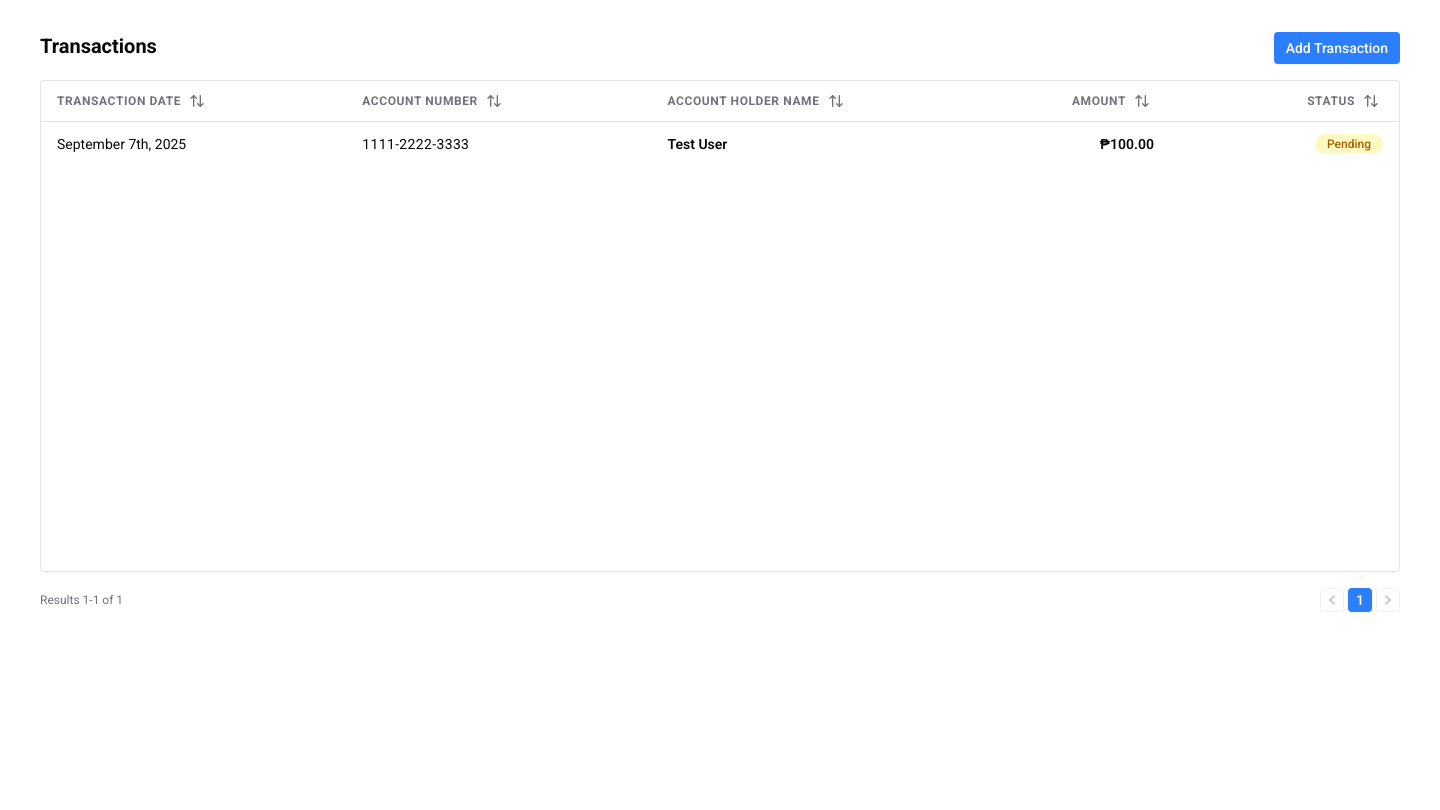
Transaction form tests › should throw an error when account number is empty
What coordinates should you click on to do the following:
click the button "Add Transaction"
I would click on:
 (1337, 48)
Its box is [1274,32,1400,64].
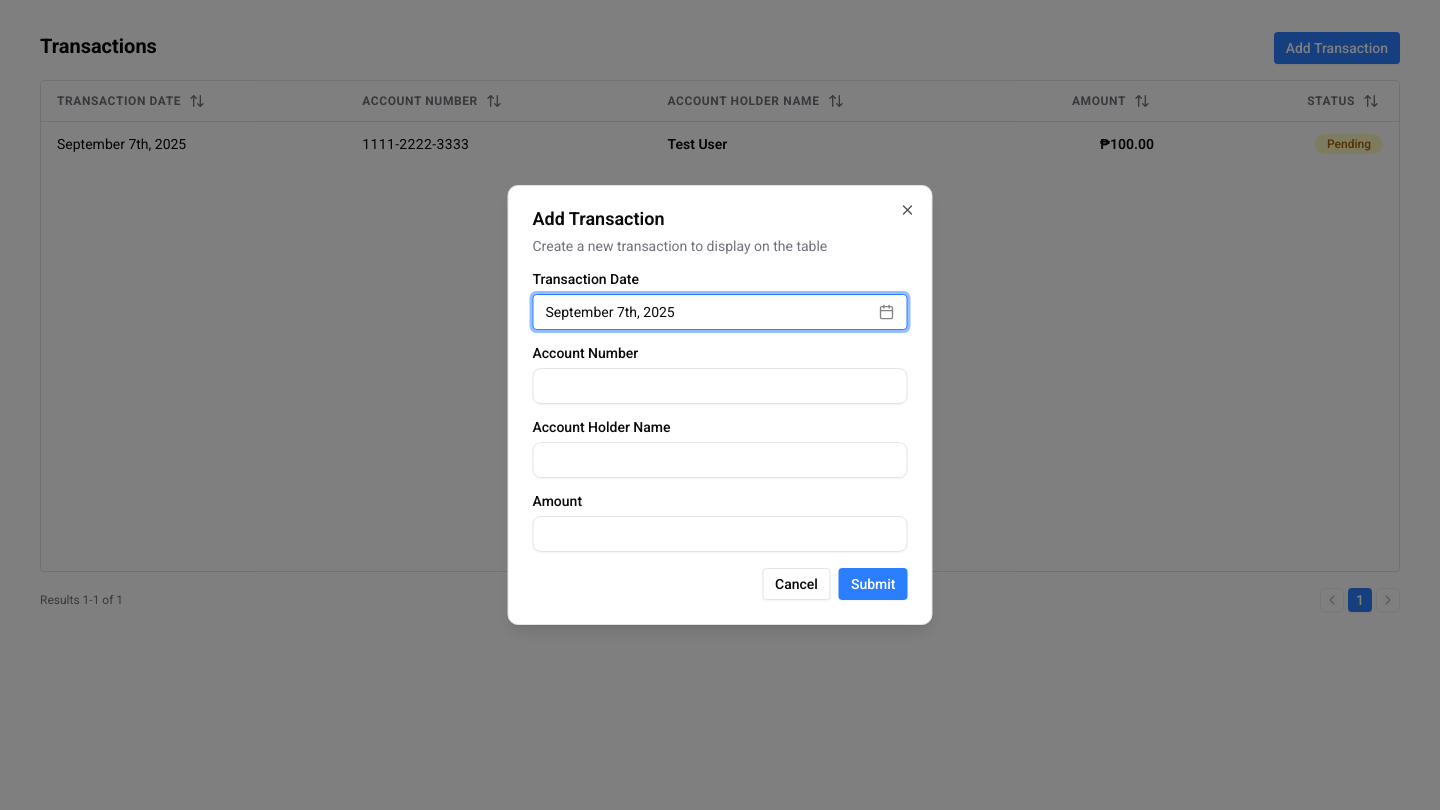
What coordinates should you click on to do the following:
click the button "Submit"
I would click on:
 (873, 584)
Its box is [839,568,908,600].
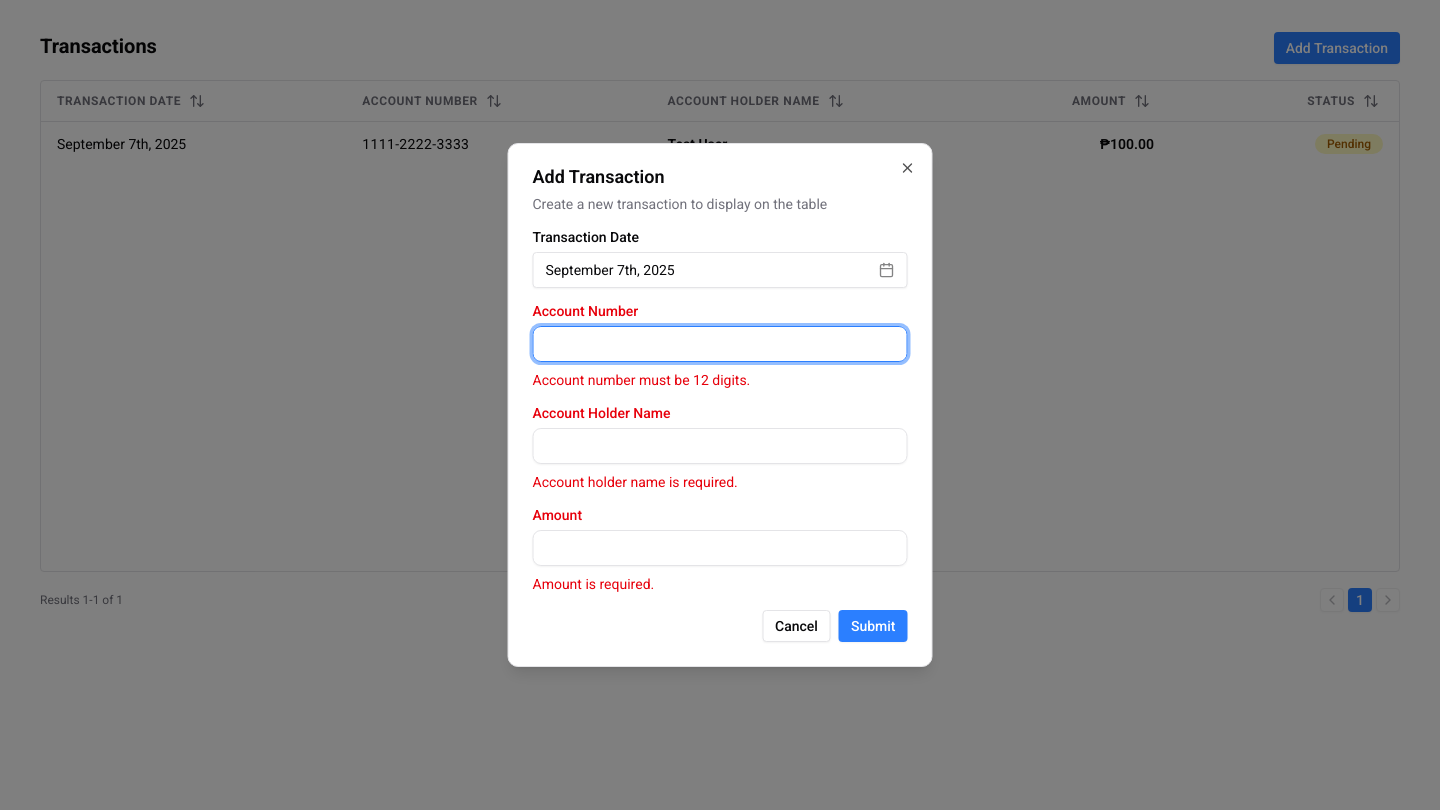
Expected: the text "Account number must be 12 digits." is shown, [532,372,750,388]
